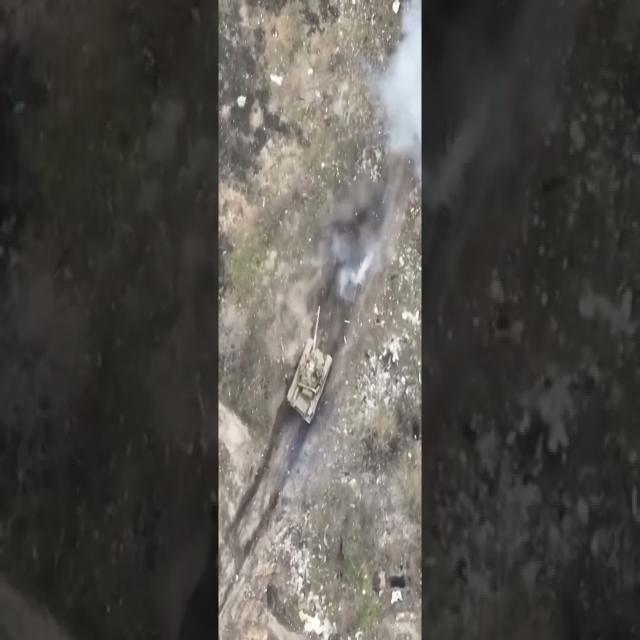tank: (288, 338, 333, 424)
